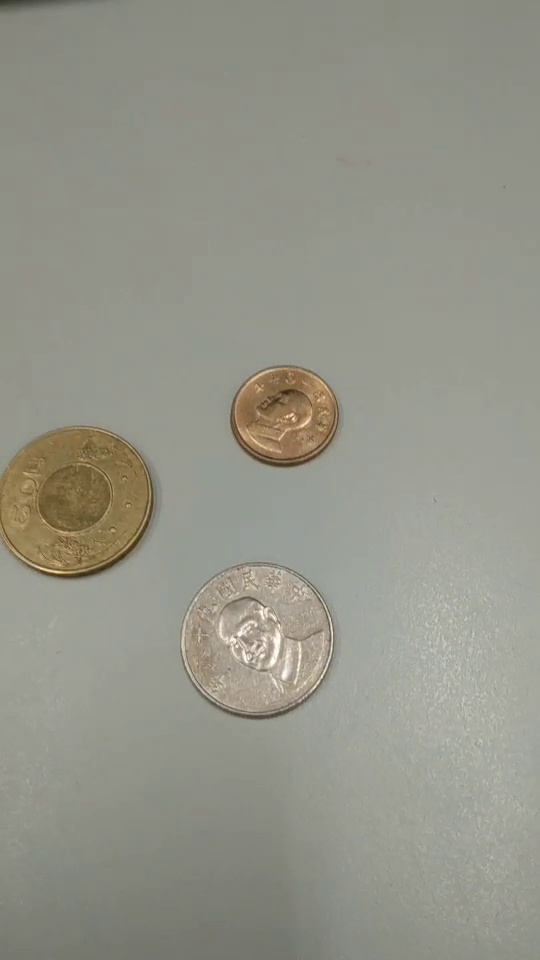NT$ 1: (228, 364, 342, 469)
NT$ 10: (177, 560, 337, 719)
NT$ 50: (1, 424, 154, 579)
